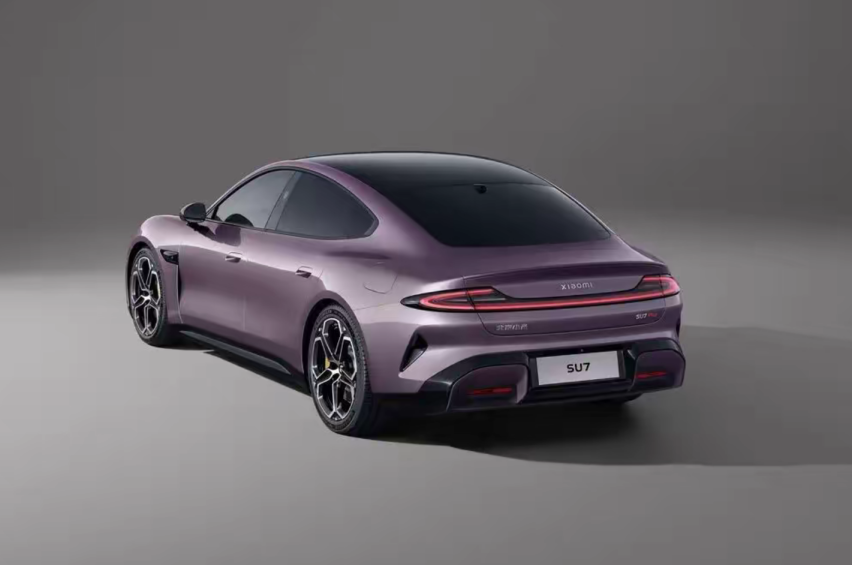su7: (123, 149, 691, 433)
